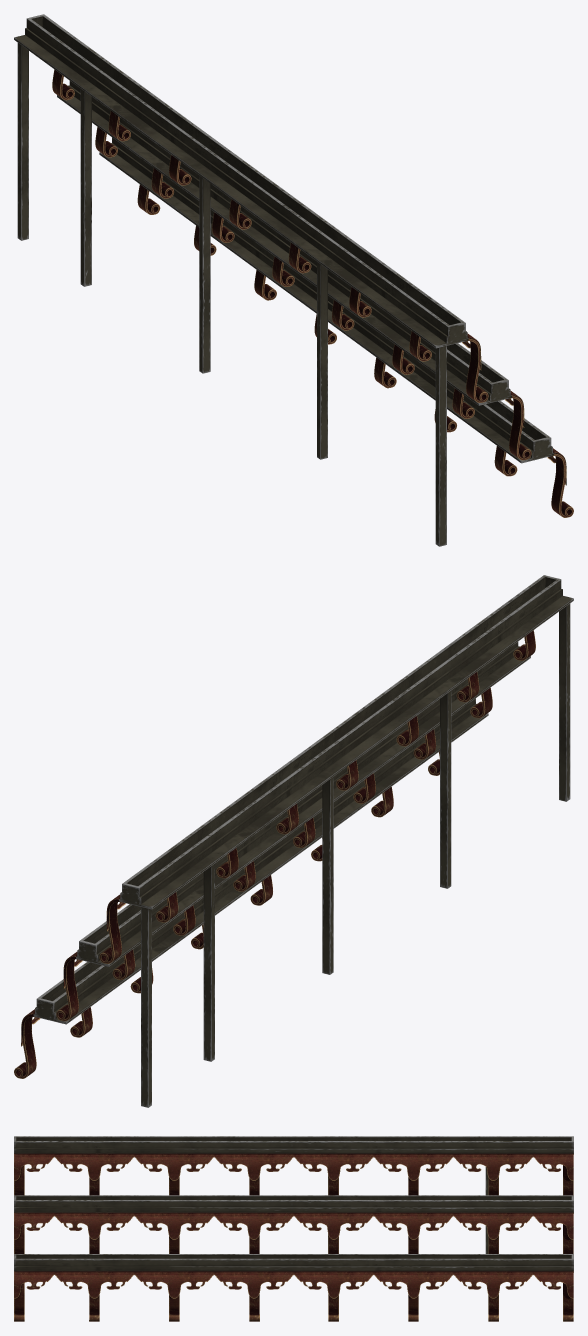
Rendered from SM_Candle_Stand.fbx.
3 renders of one model, top to bottom at view 1: azimuth 30°, elevation 25°; view 2: azimuth 150°, elevation 25°; view 3: azimuth 270°, elevation 25°, orthographic. The views are drawn at different scales.
Visible parts, largest first — view 1: SM_Candle_Stand_LOD0; view 2: SM_Candle_Stand_LOD0; view 3: SM_Candle_Stand_LOD0.
Part boxes in pixels (box(x1,y1,x2,y2)): SM_Candle_Stand_LOD0: box(14, 14, 573, 546); SM_Candle_Stand_LOD0: box(14, 575, 573, 1107); SM_Candle_Stand_LOD0: box(14, 1136, 573, 1321).
Size of the model in its own units: 79.54 by 421 by 121.
